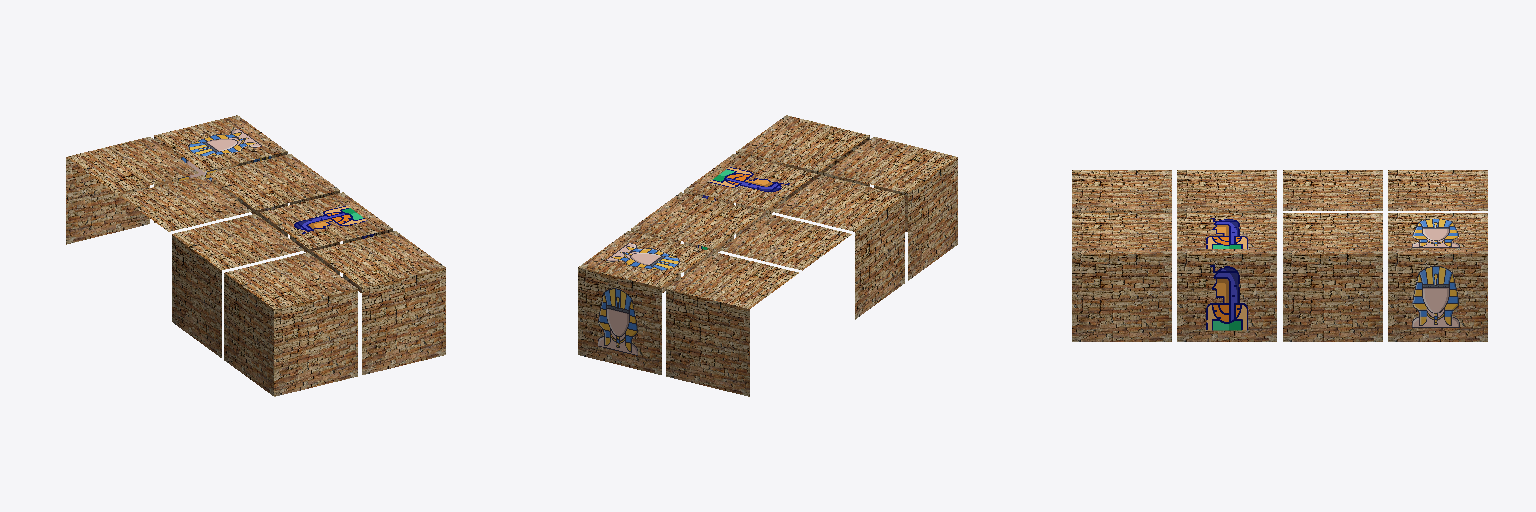
3 views of the same model, side by side, from view 1: azimuth 30°, elevation 25°; view 2: azimuth 150°, elevation 25°; view 3: azimuth 270°, elevation 25° (orthographic).
Parts seen in each view (by area): view 1: laberintoCompletoEgipto_Box747; view 2: laberintoCompletoEgipto_Box747; view 3: laberintoCompletoEgipto_Box747.
Boxes of the visible parts, <box> form: laberintoCompletoEgipto_Box747: <box>66,115,445,396</box>; laberintoCompletoEgipto_Box747: <box>578,115,957,396</box>; laberintoCompletoEgipto_Box747: <box>1072,170,1487,341</box>.
Bounding box in the file's own units: 4.13 × 2.02 × 8.68.
Materials: 3 (3 with a texture image).